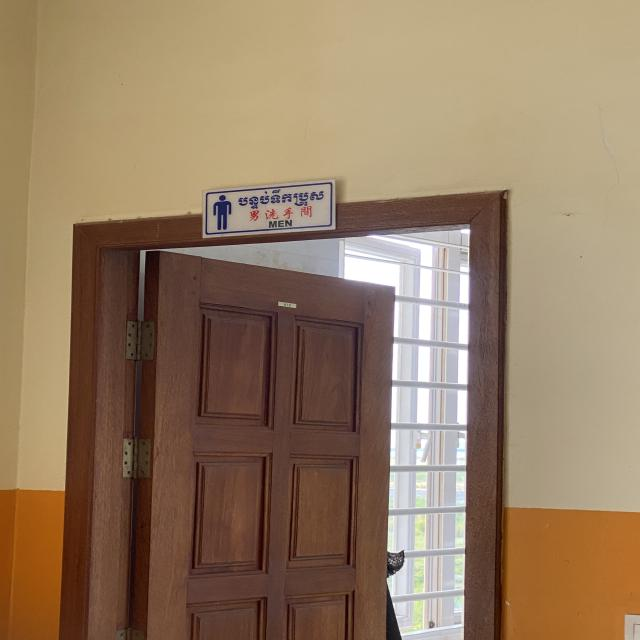Yolov11kh: (233, 186, 326, 211)
